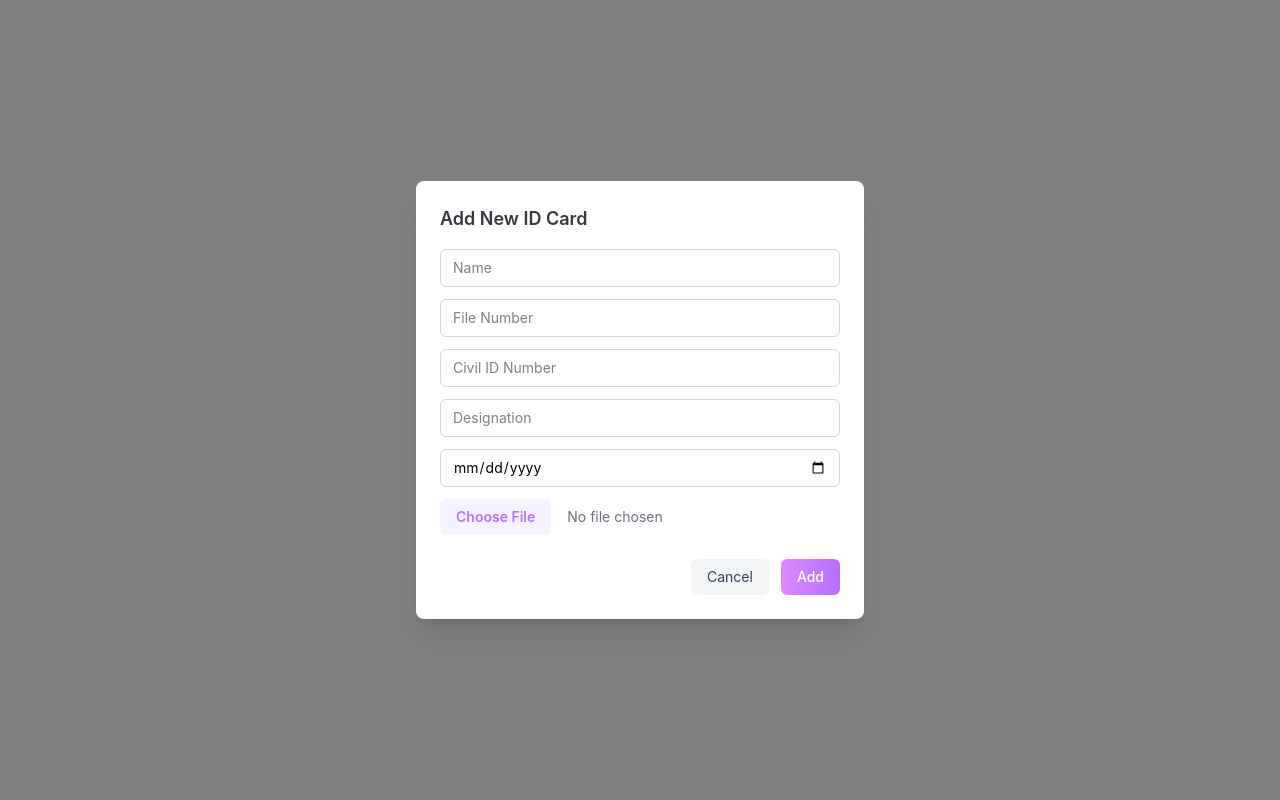
it: AddIdCardModal Component › Error Handling › displays error message on API failure
Type "John Doe" into the field with placeholder "Name" at (640, 268), box x1=440 y1=249 x2=840 y2=287
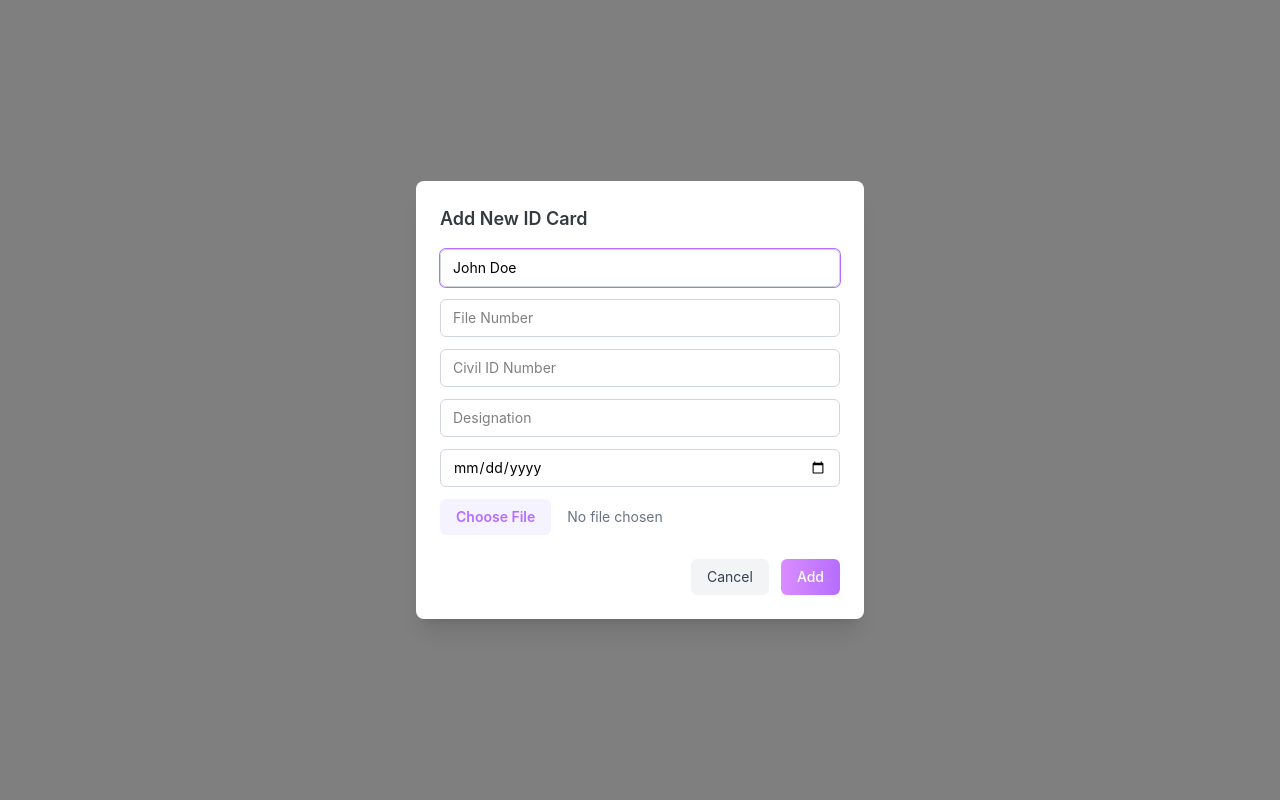
Type "FN123456" into the field with placeholder "File Number" at (640, 318), box x1=440 y1=299 x2=840 y2=337
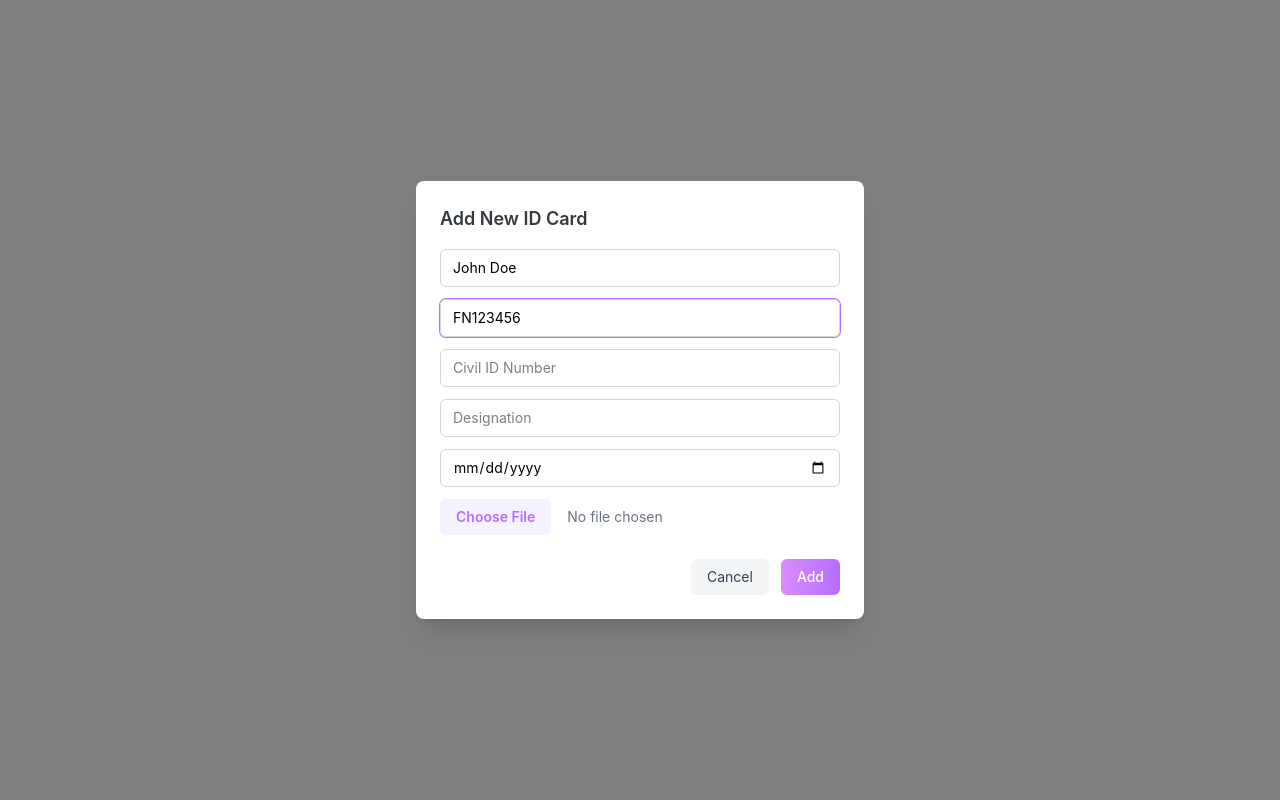
Type "CV987654" into the field with placeholder "Civil ID Number" at (640, 368), box x1=440 y1=349 x2=840 y2=387
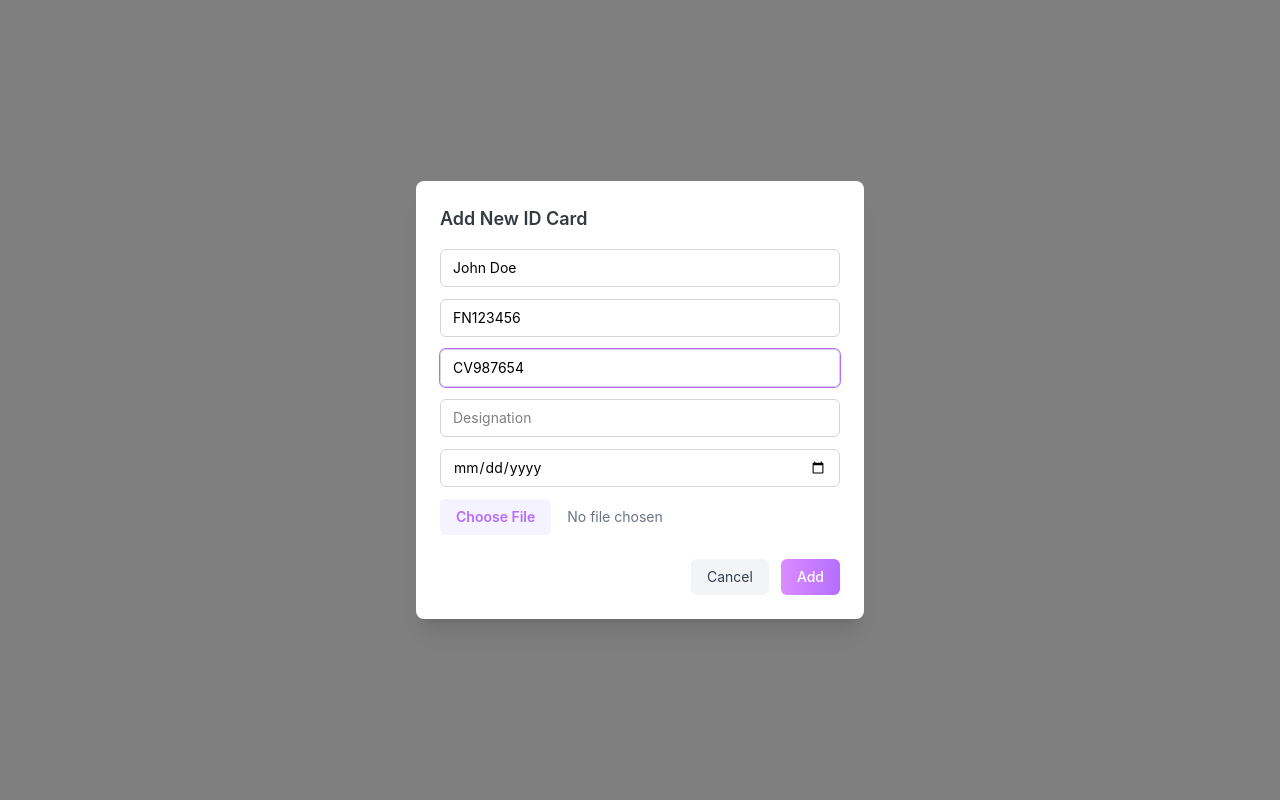
Click the button "Add" at (810, 577), box x1=781 y1=559 x2=840 y2=595
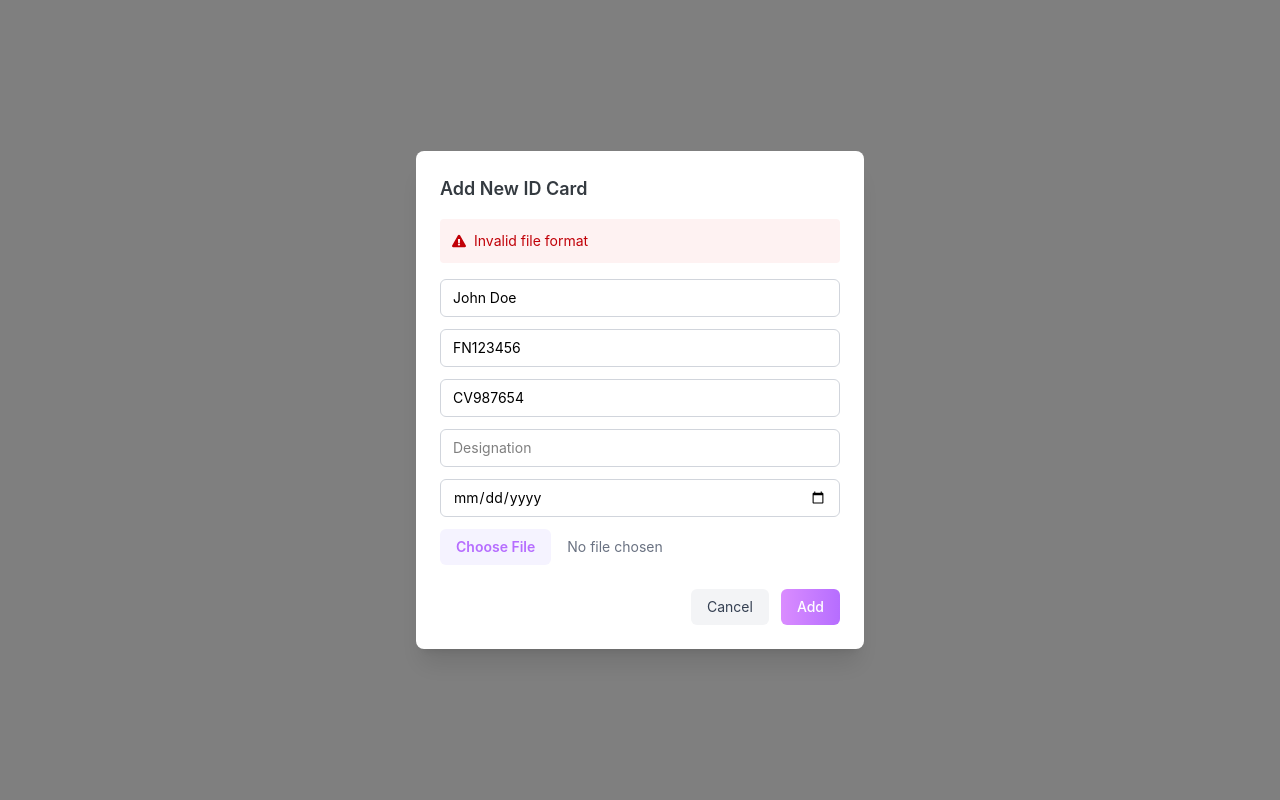
Result: the text "Invalid file format" is shown at x1=474 y1=231 x2=588 y2=251
